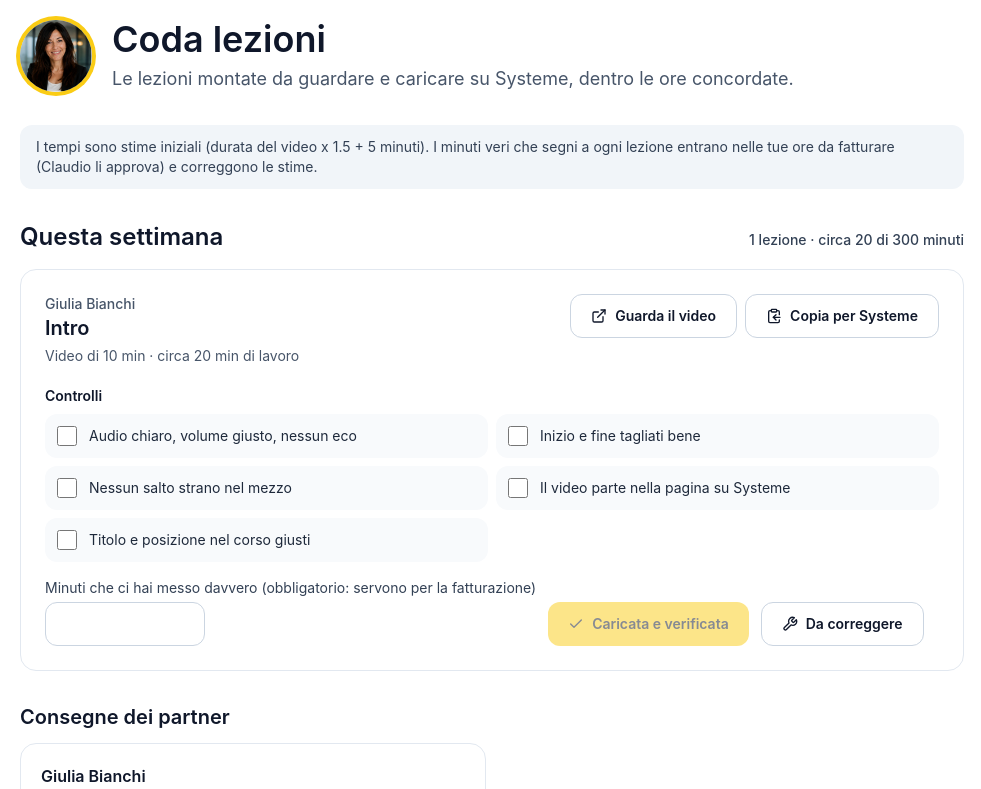
«Caricata e verificata» resta spenta finche non sono spuntati tutti i controlli
This screenshot has width=981, height=789.
Later steps or results of the test are not shown.
Expected: the button "Caricata e verificata" is disabled, [548,602,749,646]
Click the checkbox labelled "Audio chiaro, volume giusto, nessun eco".
click(67, 436)  # box [57,426,77,446]
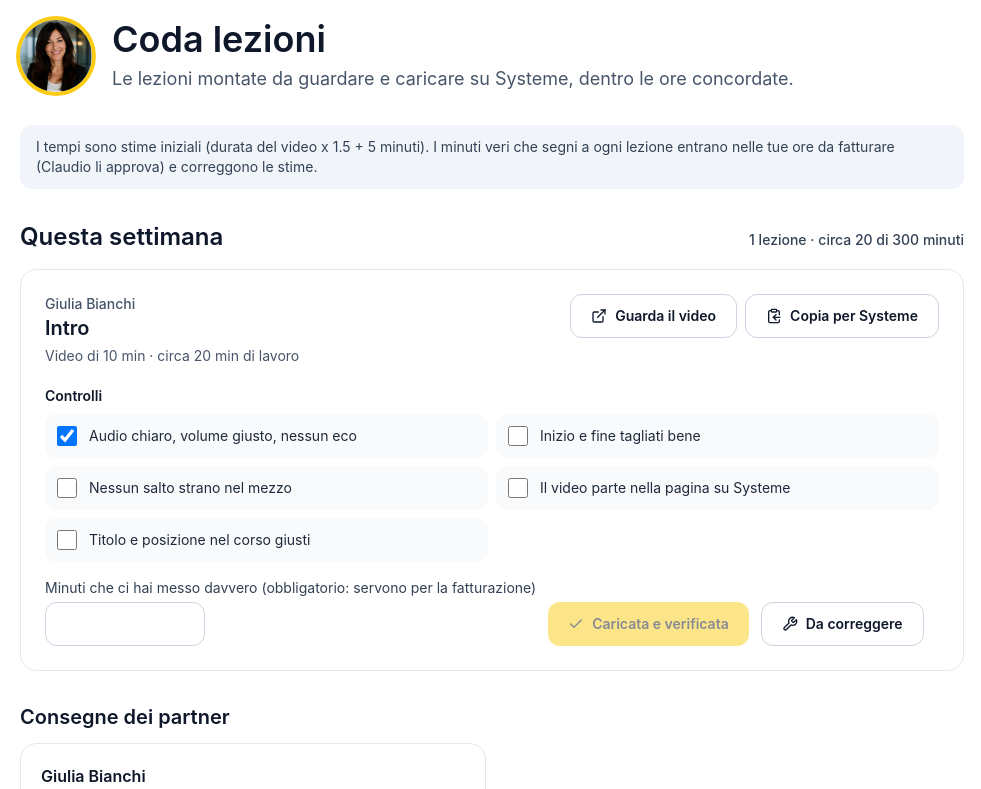
Click the checkbox labelled "Inizio e fine tagliati bene".
click(518, 436)  # box [508,426,528,446]
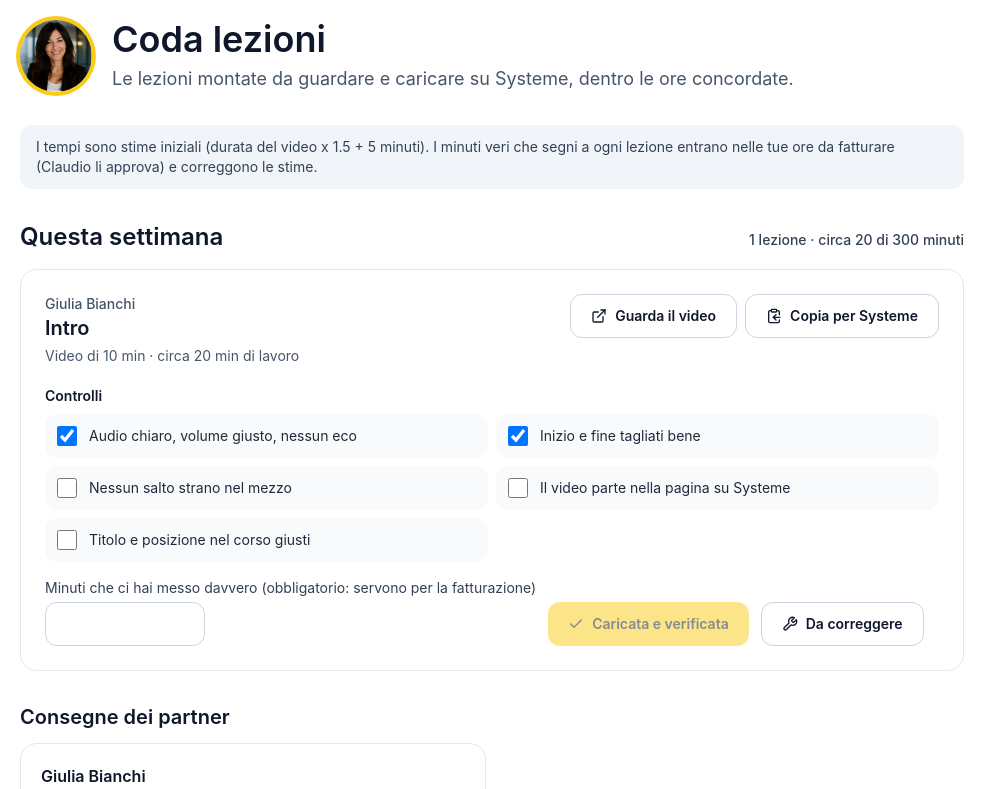
Click the checkbox labelled "Nessun salto strano nel mezzo".
click(67, 488)  # box [57,478,77,498]
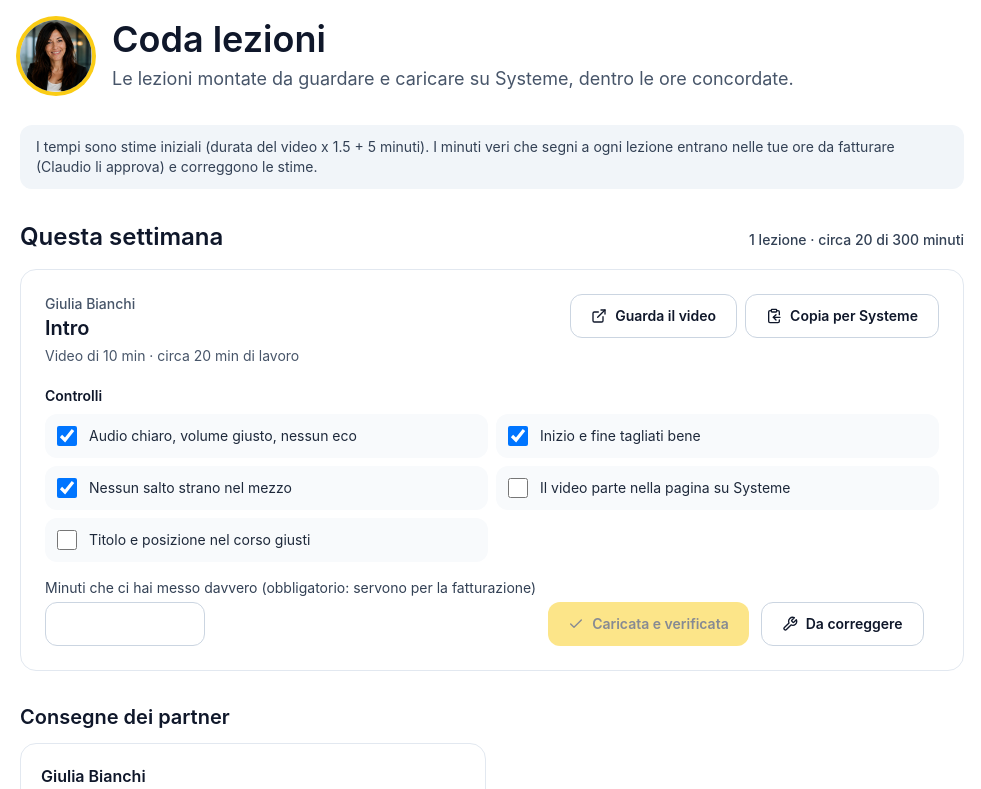
Click the checkbox labelled "Il video parte nella pagina su Systeme".
click(518, 488)  # box [508,478,528,498]
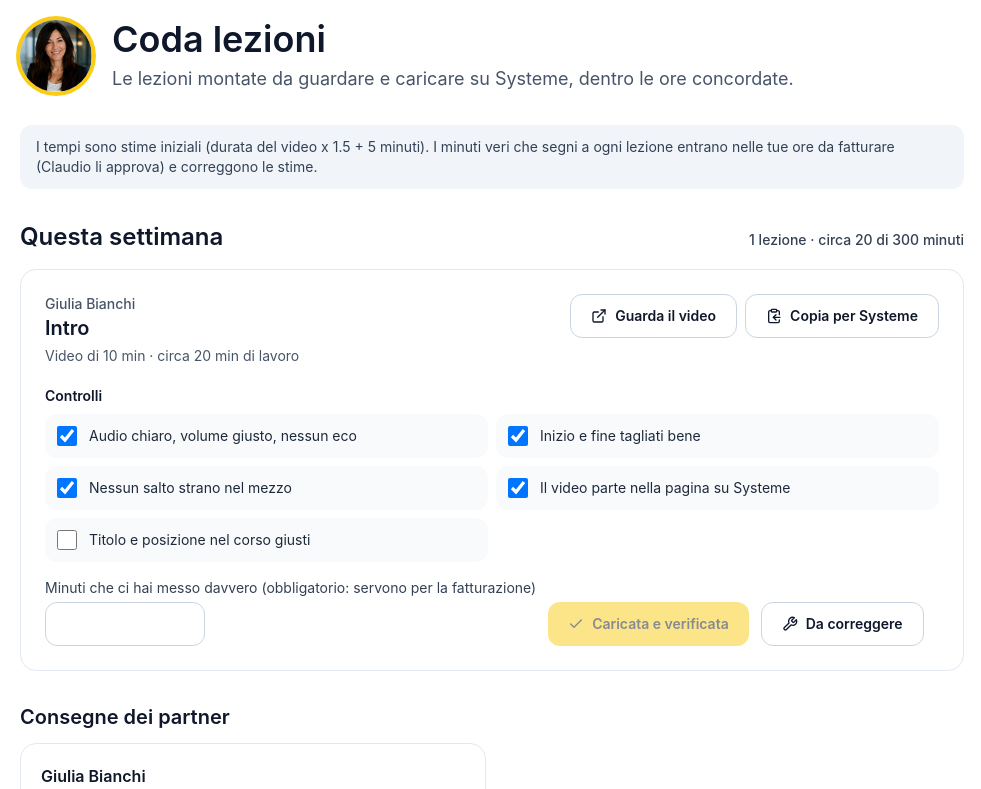
Click the checkbox labelled "Titolo e posizione nel corso giusti".
click(67, 540)  # box [57,530,77,550]
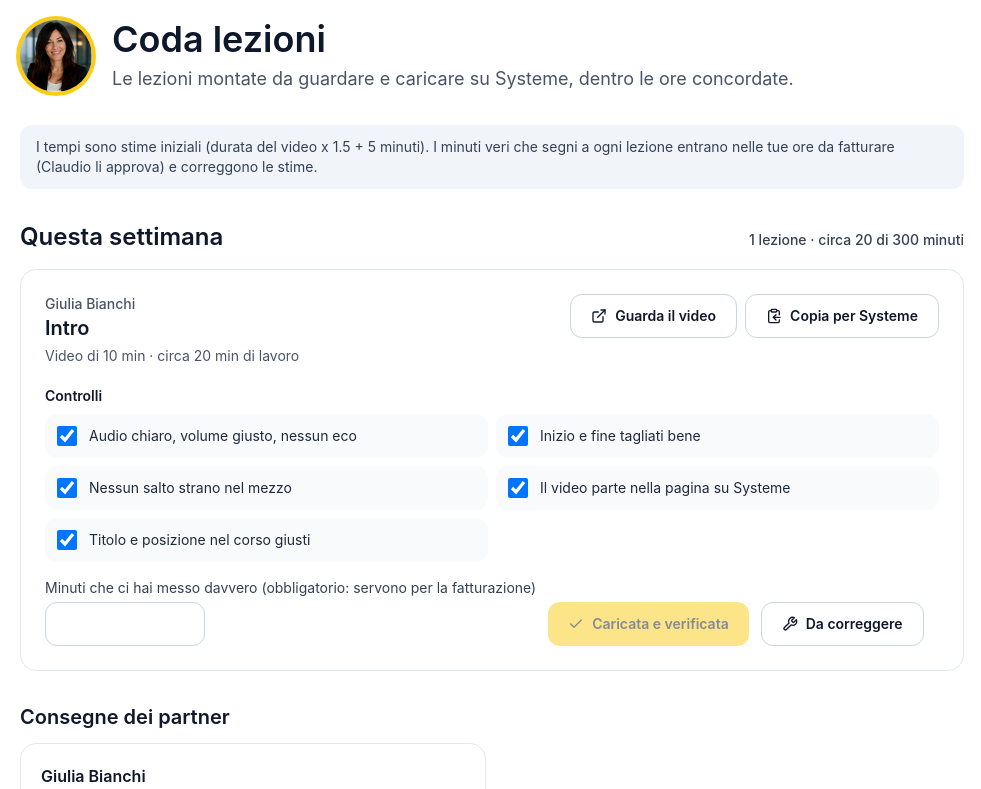
Expected: the button "Caricata e verificata" is disabled, [548,602,749,646]
Type "22" into the number field labelled "Minuti che ci hai messo".
click(125, 624); type("22")  # box [45,602,205,646]
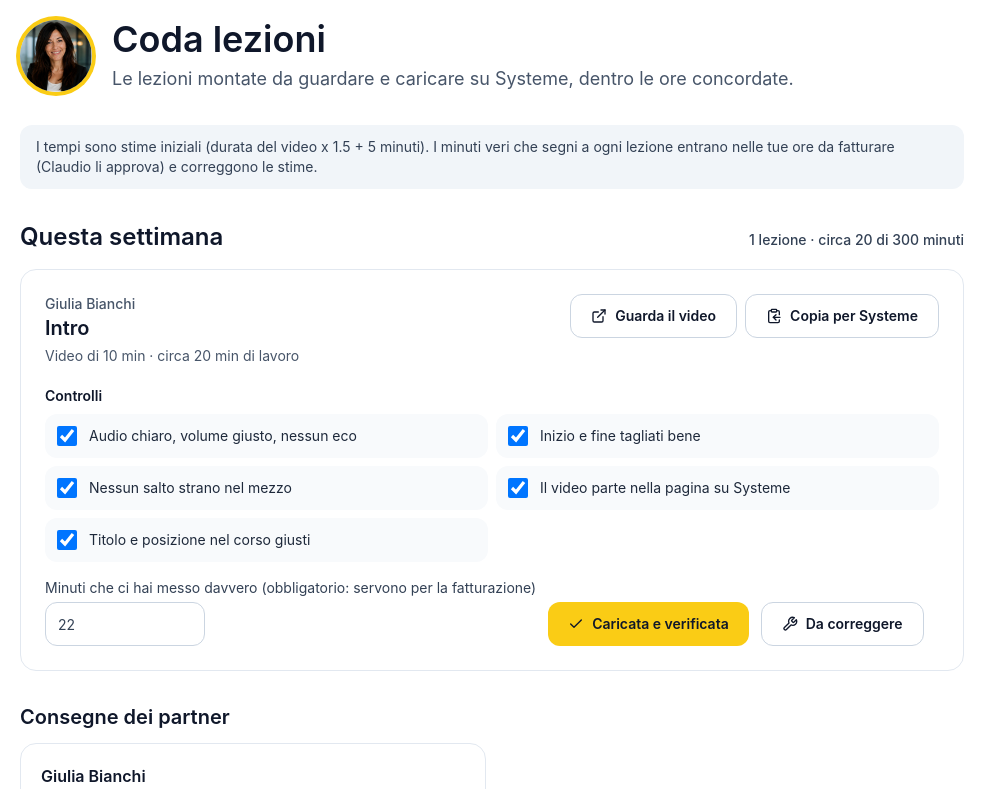
Expected: the button "Caricata e verificata" is enabled, [548,602,749,646]
